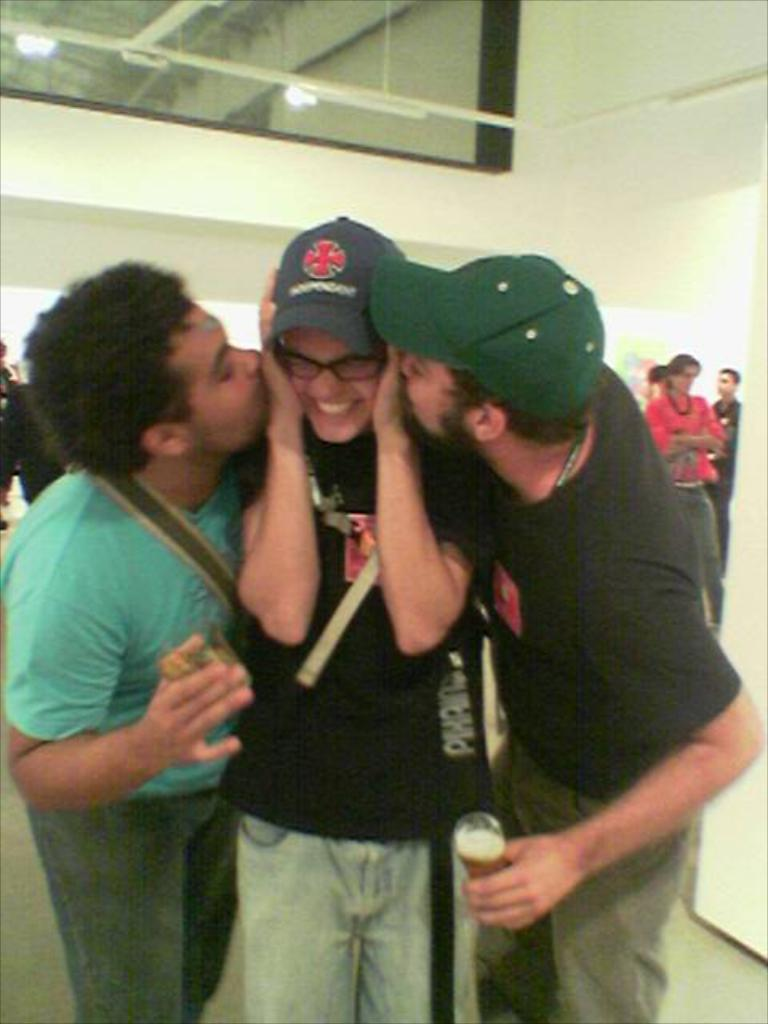Hat: (368, 250, 608, 418), (266, 206, 408, 356)
